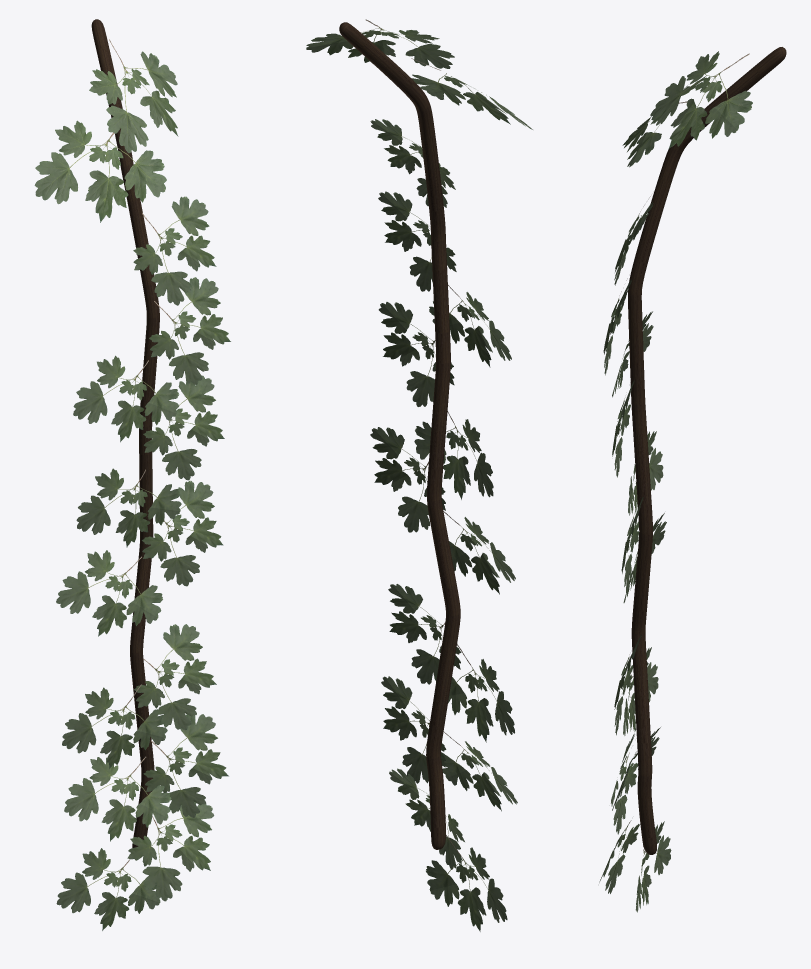
Rendered from Amazonie_Lierre.fbx.
The picture shows the model from 3 angles, left to right: view 1: azimuth 30°, elevation 25°; view 2: azimuth 150°, elevation 25°; view 3: azimuth 270°, elevation 25°; orthographic projection. The views are drawn at different scales.
Parts seen in each view (by area): view 1: Plane.014, Plane; view 2: Plane.014, Plane; view 3: Plane.014, Plane.
Boxes of the visible parts, box(x1,y1,x2,y2) form: Plane.014: box(34, 39, 230, 930); Plane: box(91, 19, 159, 847); Plane.014: box(306, 19, 532, 931); Plane: box(339, 22, 460, 849); Plane.014: box(599, 51, 752, 912); Plane: box(628, 47, 786, 854).
Size of the model in its own units: 649 by 2430 by 493.
